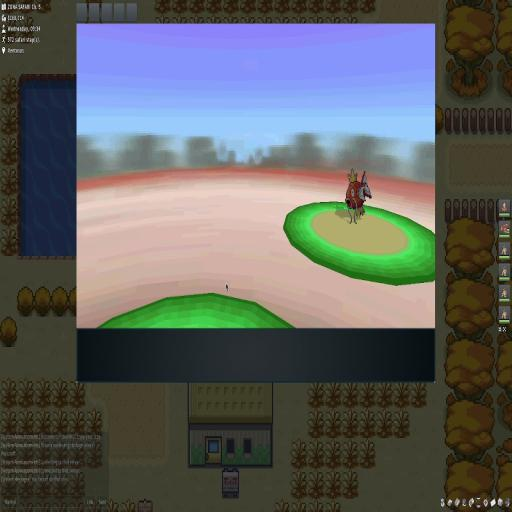MAGIKARP: (342, 168, 372, 224)
